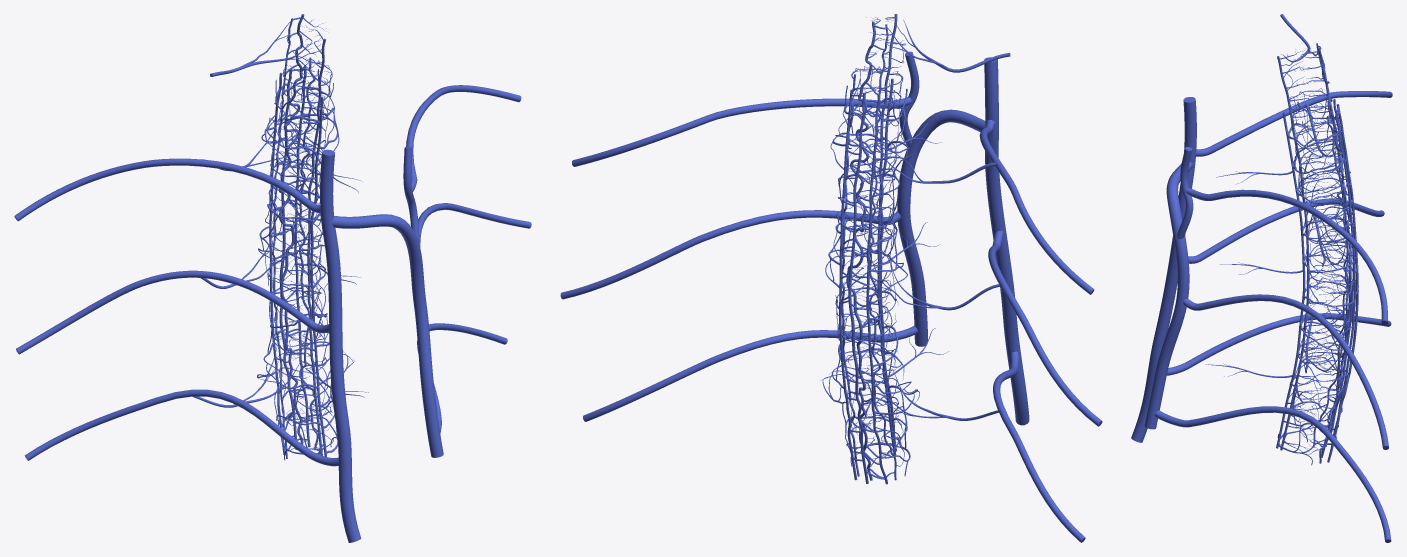
File: open3d-spinal-cord-venous-01.glb
3 views of the same model, side by side, from view 1: azimuth 30°, elevation 25°; view 2: azimuth 150°, elevation 25°; view 3: azimuth 270°, elevation 25° (orthographic). The views are drawn at different scales.
Parts seen in each view (by area): view 1: O3D_37d245f5657f5c, O3D_b0527f8a245a12, O3D_56b09b64706c1f, O3D_88517579010abd, O3D_dfb30d6ae9ecaa, O3D_11100ce4bd97ac, O3D_e5fec1982c29c3, O3D_7318427eeca039, O3D_b7b4af107f00e9, O3D_c08e25b7d45c26, O3D_892115f94e805f; view 2: O3D_37d245f5657f5c, O3D_56b09b64706c1f, O3D_b0527f8a245a12, O3D_88517579010abd, O3D_11100ce4bd97ac, O3D_dfb30d6ae9ecaa, O3D_e5fec1982c29c3, O3D_7318427eeca039, O3D_892115f94e805f, O3D_c08e25b7d45c26, O3D_b7b4af107f00e9; view 3: O3D_37d245f5657f5c, O3D_56b09b64706c1f, O3D_b0527f8a245a12, O3D_88517579010abd, O3D_dfb30d6ae9ecaa, O3D_7318427eeca039, O3D_e5fec1982c29c3, O3D_c08e25b7d45c26, O3D_11100ce4bd97ac, O3D_b7b4af107f00e9, O3D_2c6f7a80a8185c.
Part boxes in pixels (x1=…): O3D_37d245f5657f5c: x1=14, y1=85, x2=531, y2=466; O3D_b0527f8a245a12: x1=320, y1=146, x2=443, y2=542; O3D_56b09b64706c1f: x1=257, y1=65, x2=354, y2=460; O3D_88517579010abd: x1=271, y1=34, x2=333, y2=450; O3D_dfb30d6ae9ecaa: x1=272, y1=18, x2=318, y2=458; O3D_11100ce4bd97ac: x1=192, y1=21, x2=321, y2=407; O3D_e5fec1982c29c3: x1=278, y1=14, x2=304, y2=444; O3D_7318427eeca039: x1=307, y1=38, x2=326, y2=455; O3D_b7b4af107f00e9: x1=282, y1=17, x2=326, y2=442; O3D_c08e25b7d45c26: x1=287, y1=25, x2=323, y2=451; O3D_892115f94e805f: x1=275, y1=17, x2=311, y2=451; O3D_37d245f5657f5c: x1=560, y1=96, x2=1102, y2=542; O3D_56b09b64706c1f: x1=820, y1=78, x2=919, y2=484; O3D_b0527f8a245a12: x1=897, y1=51, x2=1029, y2=425; O3D_88517579010abd: x1=841, y1=40, x2=905, y2=466; O3D_11100ce4bd97ac: x1=869, y1=20, x2=1010, y2=420; O3D_dfb30d6ae9ecaa: x1=841, y1=24, x2=896, y2=480; O3D_e5fec1982c29c3: x1=846, y1=21, x2=875, y2=480; O3D_7318427eeca039: x1=877, y1=14, x2=897, y2=455; O3D_892115f94e805f: x1=842, y1=25, x2=894, y2=477; O3D_c08e25b7d45c26: x1=850, y1=17, x2=895, y2=459; O3D_b7b4af107f00e9: x1=852, y1=17, x2=893, y2=466; O3D_37d245f5657f5c: x1=1154, y1=91, x2=1392, y2=542; O3D_56b09b64706c1f: x1=1276, y1=96, x2=1358, y2=465; O3D_b0527f8a245a12: x1=1131, y1=97, x2=1196, y2=442; O3D_88517579010abd: x1=1283, y1=56, x2=1348, y2=454; O3D_dfb30d6ae9ecaa: x1=1313, y1=43, x2=1348, y2=463; O3D_7318427eeca039: x1=1277, y1=56, x2=1309, y2=450; O3D_e5fec1982c29c3: x1=1317, y1=48, x2=1351, y2=457; O3D_c08e25b7d45c26: x1=1279, y1=49, x2=1340, y2=450; O3D_11100ce4bd97ac: x1=1280, y1=14, x2=1346, y2=373; O3D_b7b4af107f00e9: x1=1291, y1=51, x2=1349, y2=444; O3D_2c6f7a80a8185c: x1=1206, y1=171, x2=1303, y2=377.
Bounding box in the file's own units: 1.14 × 0.9396 × 0.537.
